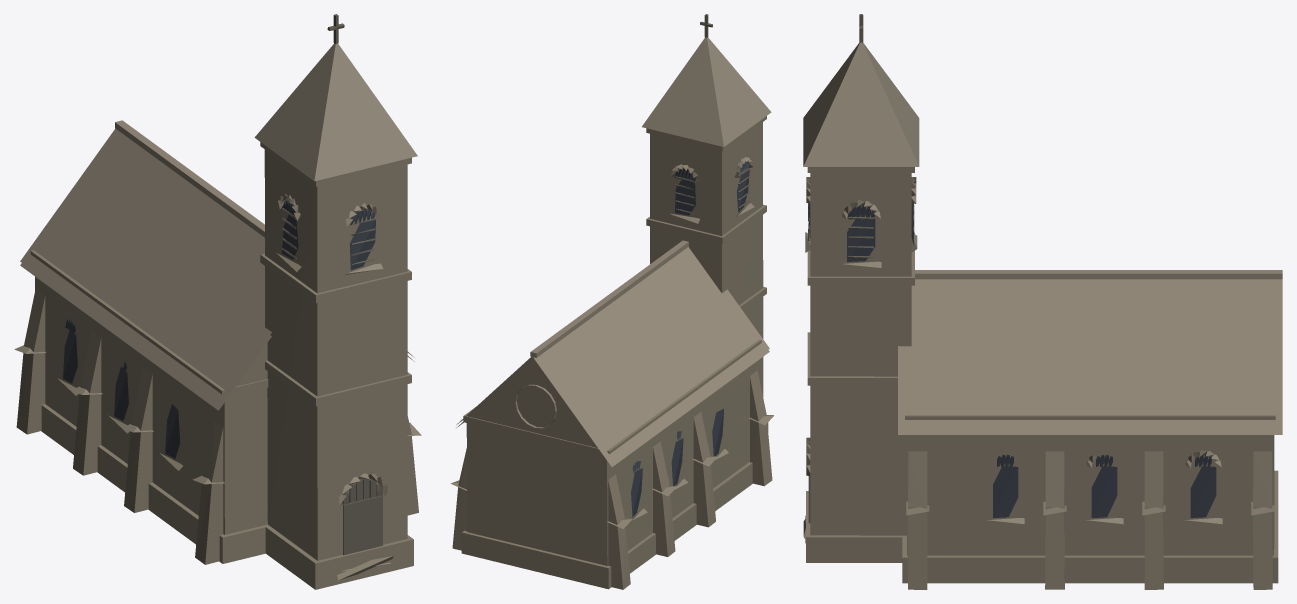
The model's file is chapel-lod1.glb.
3 renders of one model, left to right at view 1: azimuth 30°, elevation 25°; view 2: azimuth 150°, elevation 25°; view 3: azimuth 270°, elevation 25°, orthographic. The views are drawn at different scales.
Size of the model in its own units: 8.61 by 20.48 by 16.95.
